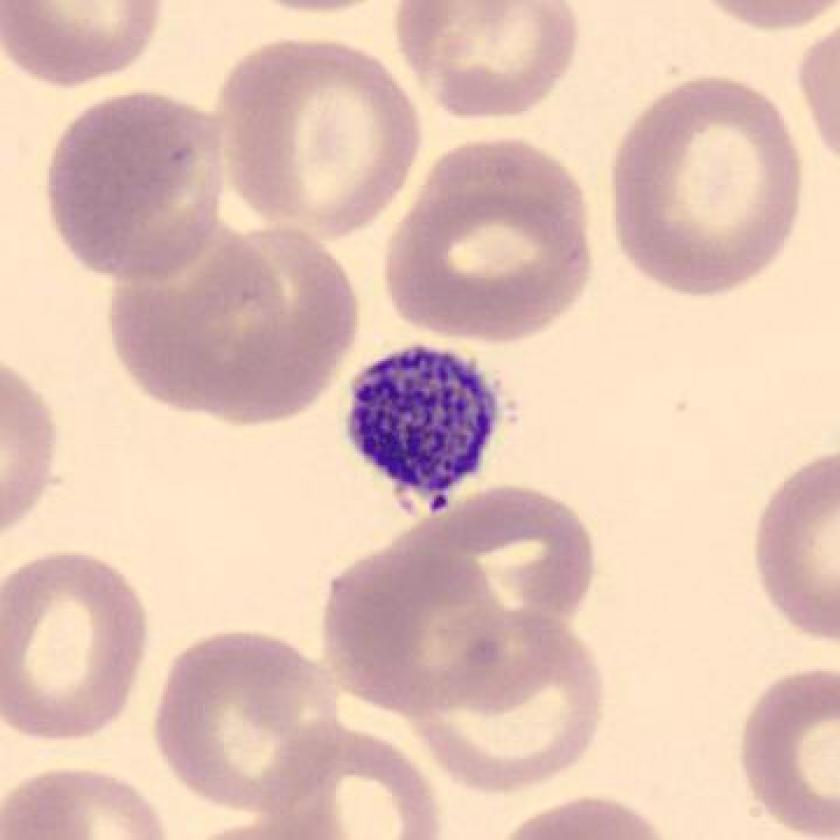platelets: (339, 339, 512, 508)
